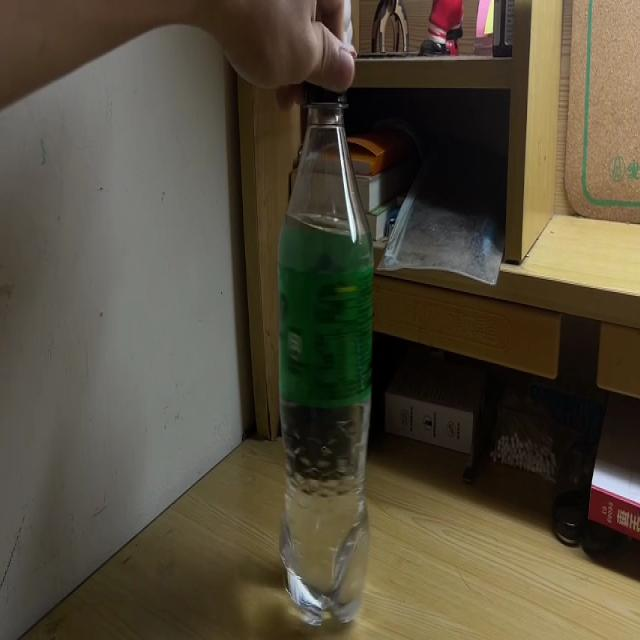Sprite: (276, 45, 374, 629)
